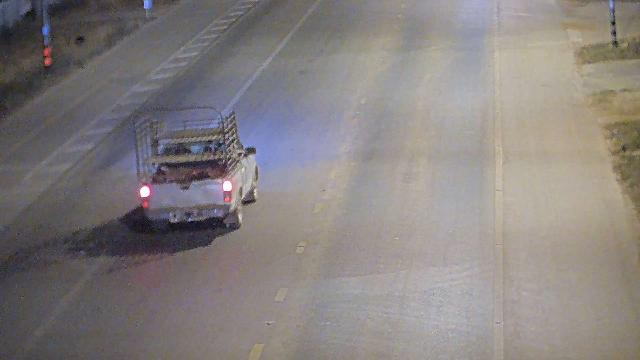pickup-truck: (132, 105, 259, 232)
